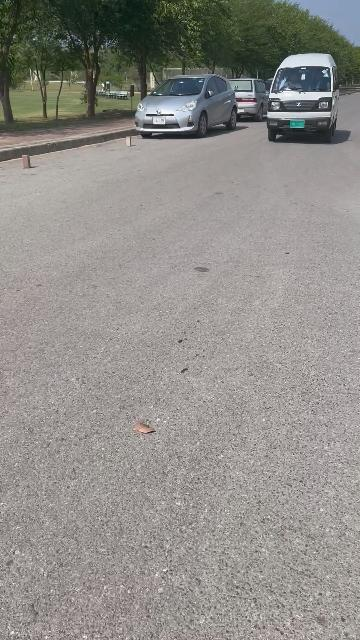plate: (288, 118, 306, 130)
